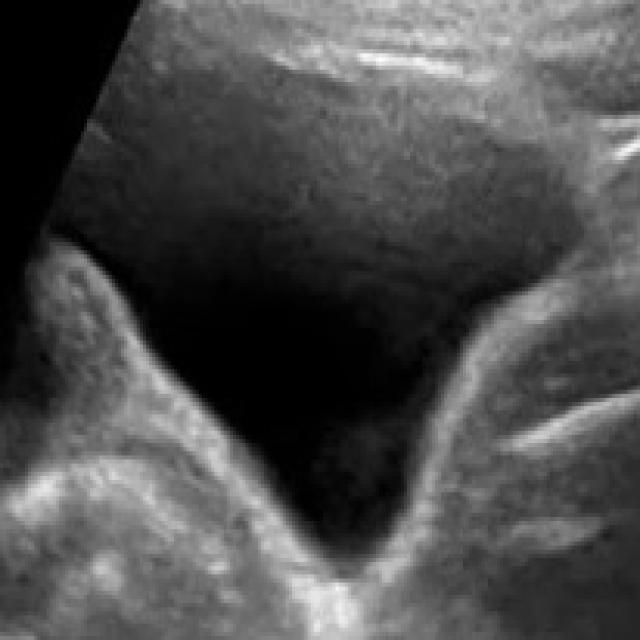bladder: (38, 9, 620, 613)
